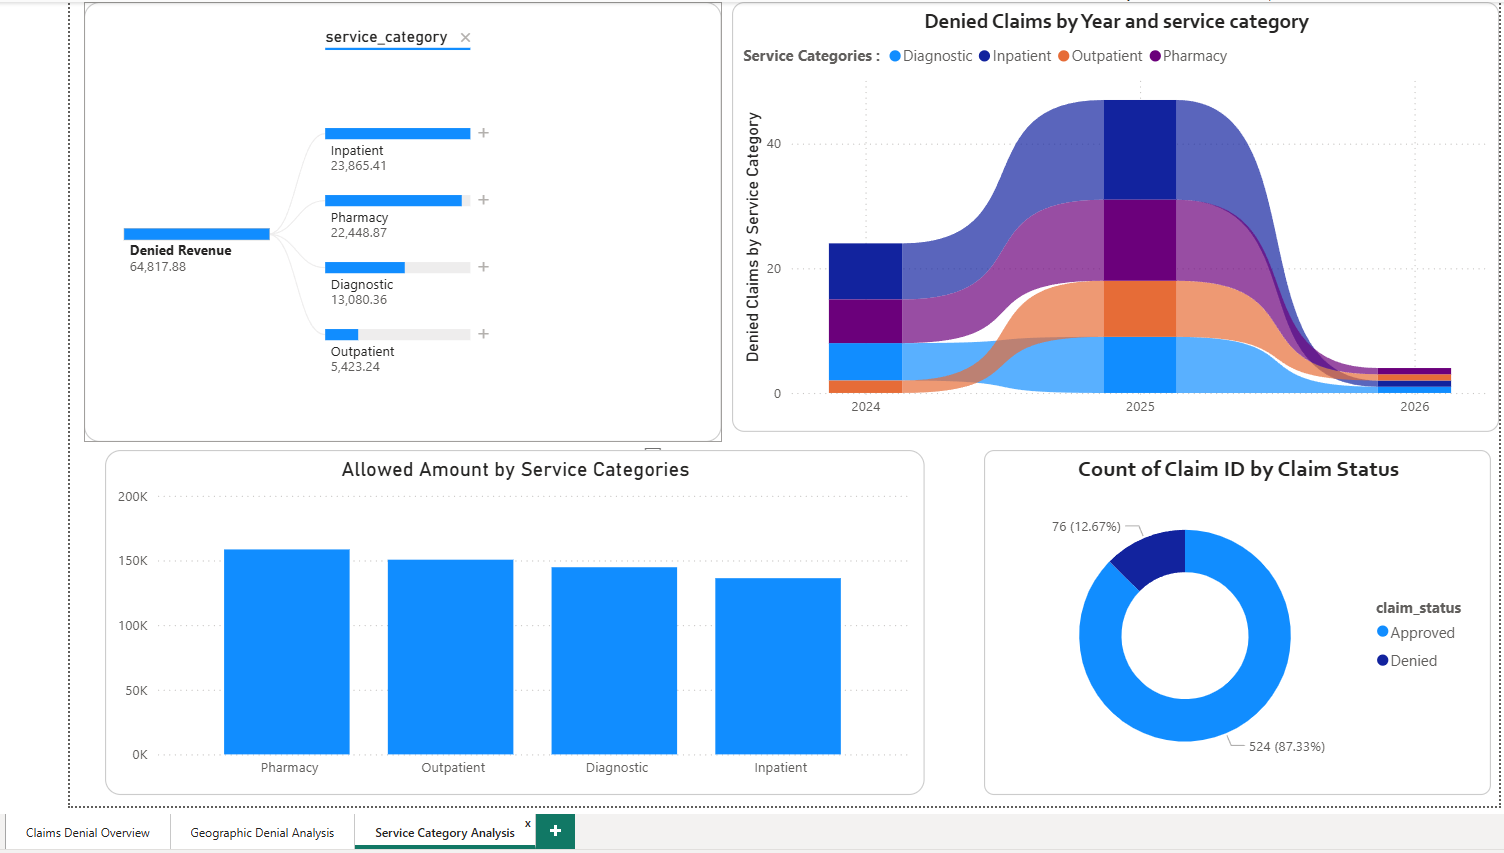

This screenshot's page, from the dashboard's own definition file:
{"tool":"powerbi","page":{"name":"Service Category Analysis","canvas":[1280,720],"ordinal":2},"visuals":[{"type":"donutChart","title":"Count of Claim ID by Claim Status","fields":{"Category":["vw_claims_clean.claim_status"],"Y":["CountNonNull(vw_claims_clean.claim_id)"]},"box":[818.7,401,454,308.6],"z":0},{"type":"decompositionTreeVisual","fields":{"Analyze":["denial_reasons.Denied Revenue"],"ExplainBy":["vw_claims_clean.service_category","vw_claims_clean.denial_reason_code","vw_claims_clean.region"]},"box":[12.5,0,571.4,393.8],"z":1000},{"type":"ribbonChart","title":"Denied Claims by Year and service category","fields":{"Category":["vw_claims_clean.service_date.Variation.Date Hierarchy.Year","vw_claims_clean.service_date.Variation.Date Hierarchy.Quarter","vw_claims_clean.service_date.Variation.Date Hierarchy.Month","vw_claims_clean.service_date.Variation.Date Hierarchy.Day"],"Y":["denial_reasons.Denied Claims"],"Series":["vw_claims_clean.service_category"]},"box":[593.2,0,686.8,385.5],"z":2000},{"type":"clusteredColumnChart","title":"Allowed Amount by Service Categories","fields":{"Category":["vw_claims_clean.service_category"],"Y":["Sum(vw_claims_clean.allowed_amount)"]},"box":[31.2,401,733.5,308.6],"z":3000}]}

Visuals, with their boxes on the page's 1280x720 design canvas (x1, y1, x2, y2). These are canvas units, not pixel positions in the 1504x853 screenshot, which may show the page scaled, cropped or inside an application window:
"Count of Claim ID by Claim Status" donutChart: 819/401/1273/710
decompositionTreeVisual - denial_reasons.Denied Revenue x vw_claims_clean.service_category: 12/0/584/394
"Denied Claims by Year and service category" ribbonChart: 593/0/1280/386
"Allowed Amount by Service Categories" clusteredColumnChart: 31/401/765/710
